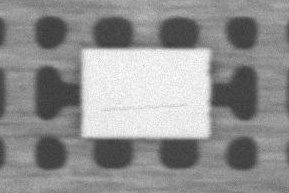DIE_CRACK: (153, 70, 279, 73)
